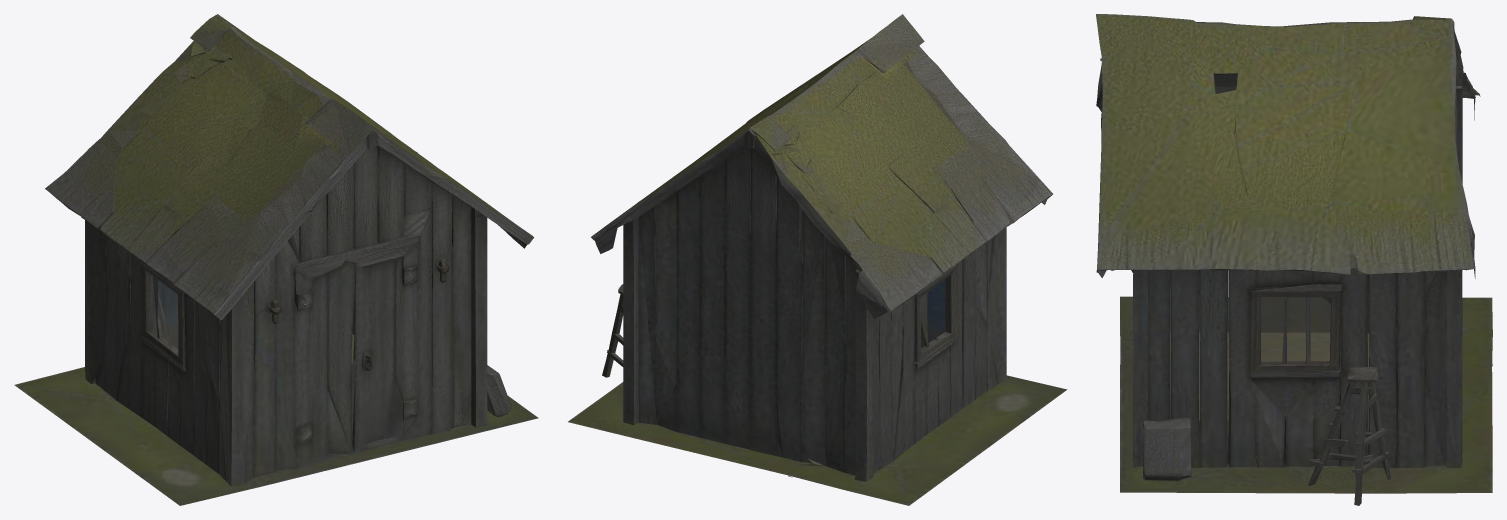
Rendered from fishing_hut.glb.
3 renders of one model, left to right at view 1: azimuth 30°, elevation 25°; view 2: azimuth 150°, elevation 25°; view 3: azimuth 270°, elevation 25°, orthographic. The views are drawn at different scales.
Visible parts, largest first — view 1: Mesh_0; view 2: Mesh_0; view 3: Mesh_0.
Boxes of the visible parts, x1,y1,x2,y2 form: Mesh_0: [14, 14, 538, 505]; Mesh_0: [568, 14, 1067, 505]; Mesh_0: [1096, 14, 1492, 505].
Size of the model in its own units: 4.9 by 4.2 by 3.93.
Materials: 1 (1 with a texture image).
